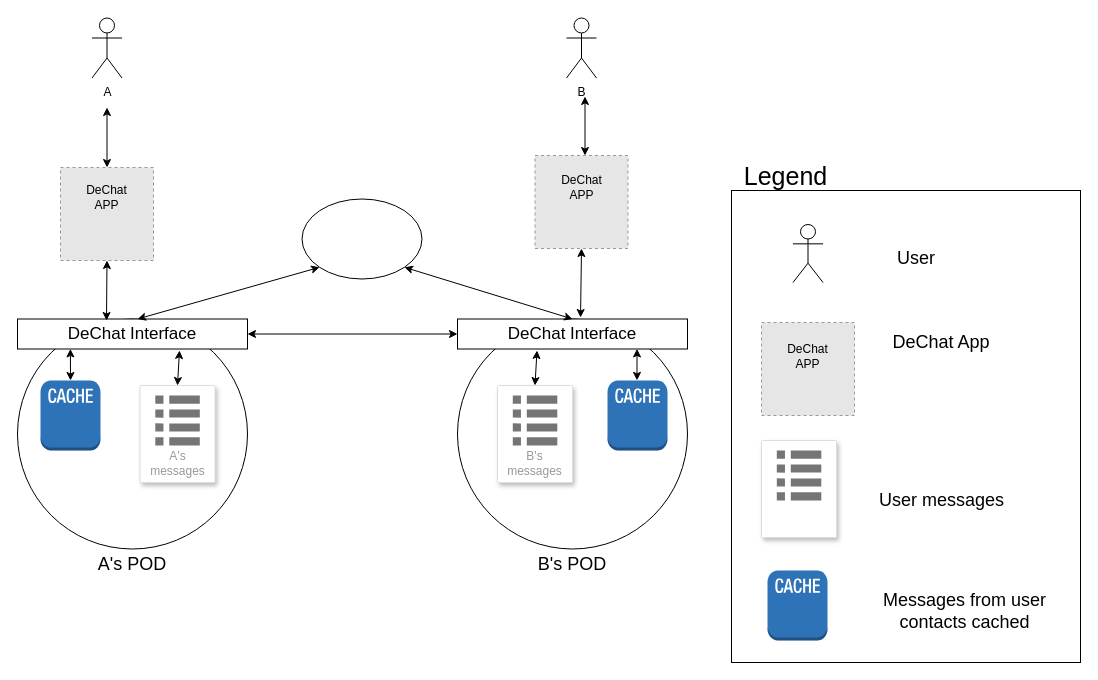
The diagram is 1098 pixels wide and 680 high, and some of its shapes have lost their labels. Grey dashed boxes stand in for pictures. Here are the shapes that lost their labels. From the top down, the centre of each, then its label:
(361,238): WebRTC
(799,490): X's messages
